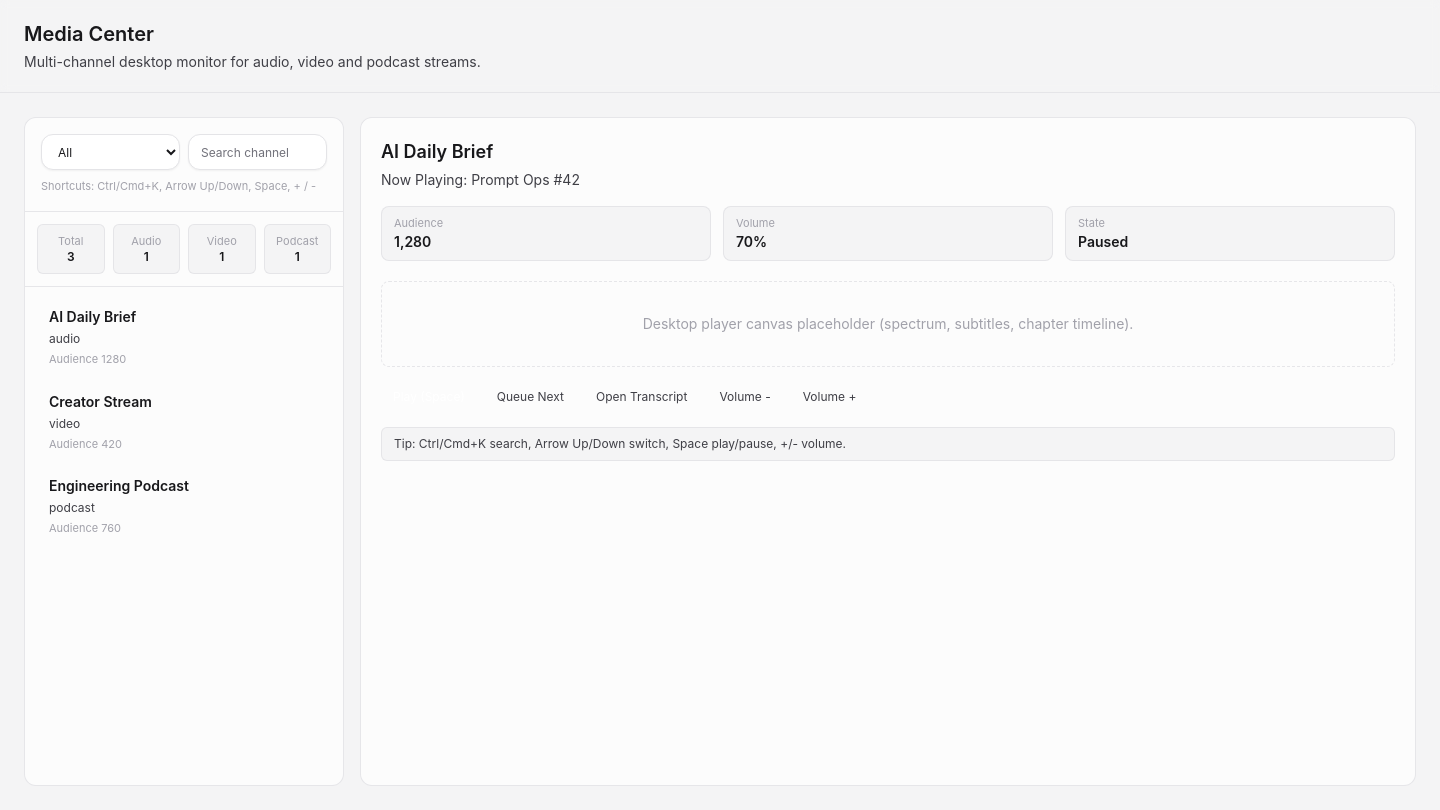
MediaCenterPage desktop interactions › filters channels by type
Select "Video" in the dropdown: (110, 152) [41,134,180,170]
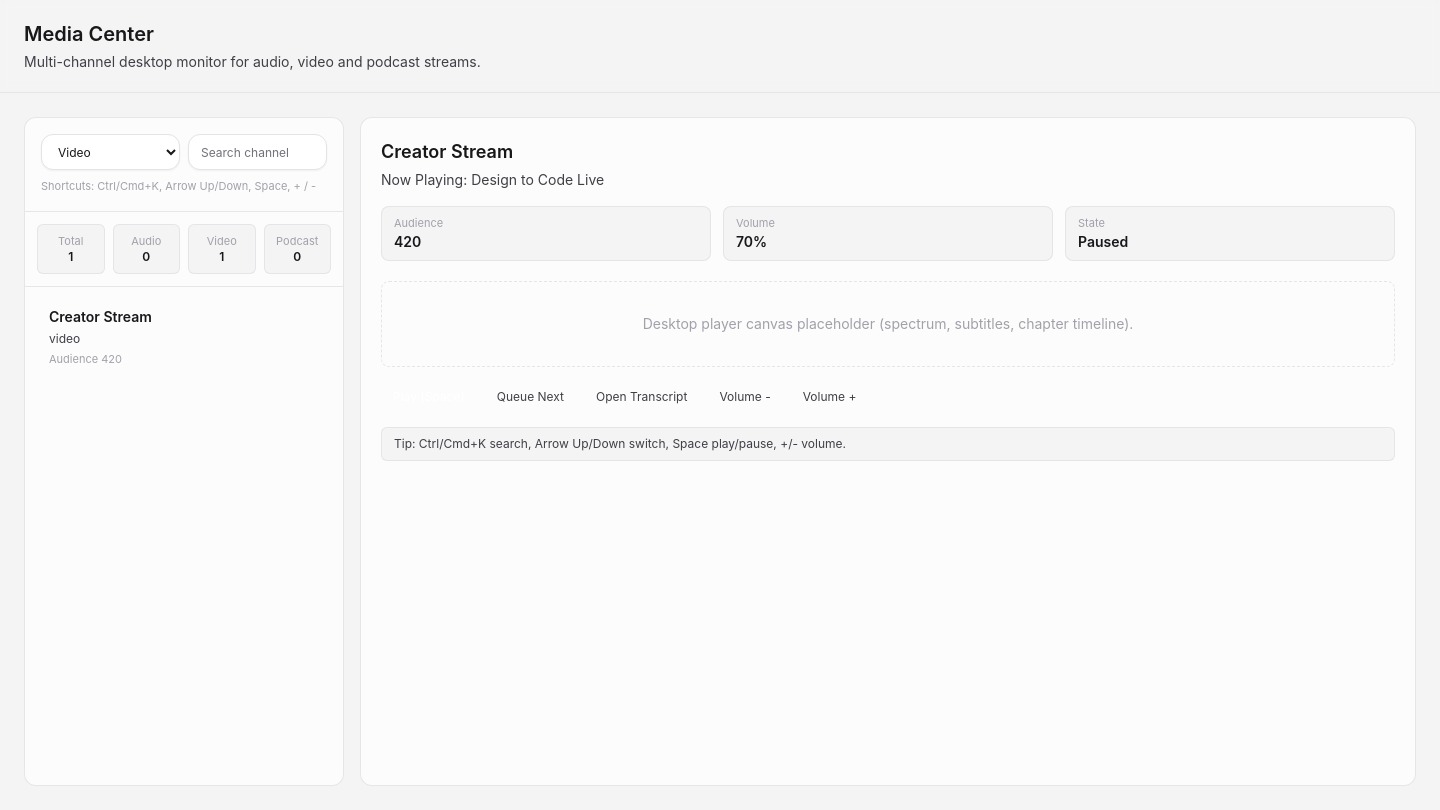
expect the text "Creator Stream" is shown: met, box [49,308,152,325]
expect the button "AI Daily Brief" is gone: met
